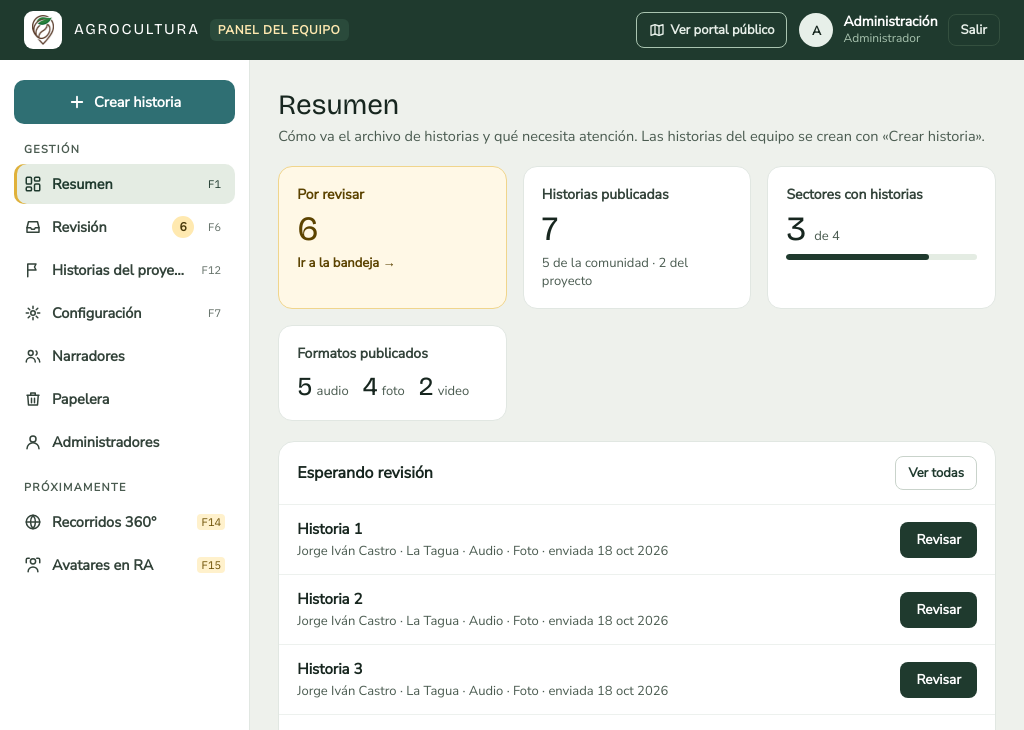
it: Resumen del administrador › "Revisar" opens the review of that story, in place
This screenshot has width=1024, height=730.
Step 1. Click the button "Revisar" in the row of "Historia 2" → point(939, 610), box [900, 592, 977, 628]
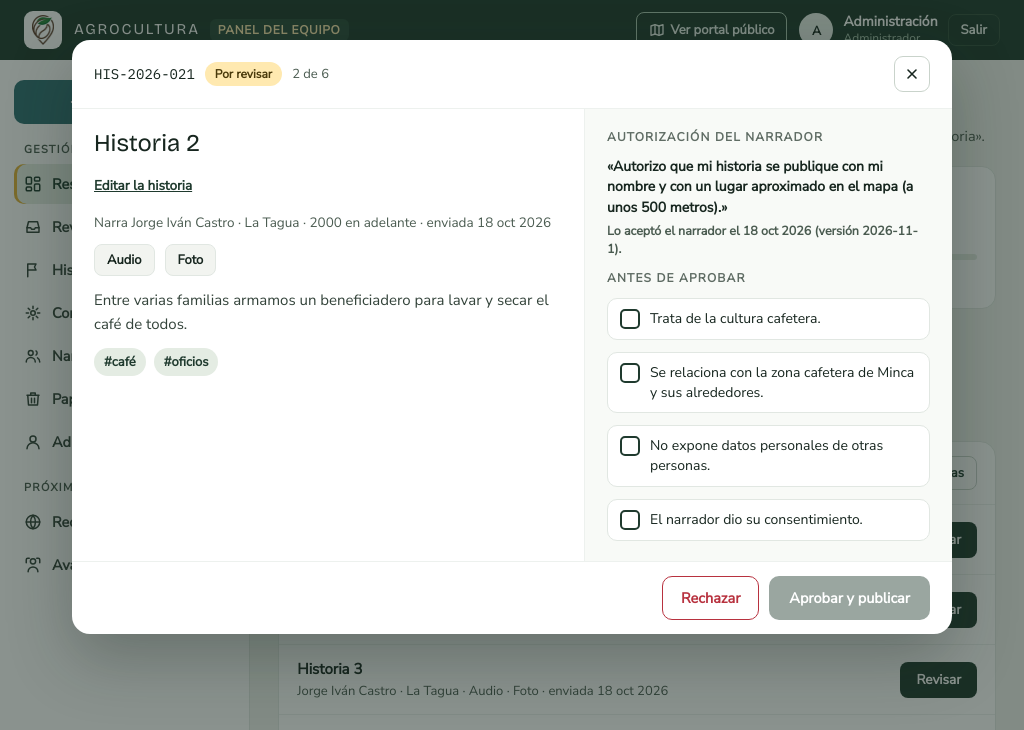
Result: the heading "Historia 2" is shown at [94, 129, 200, 157]
Result: the text "2 de 6" is shown at [292, 65, 329, 83]
